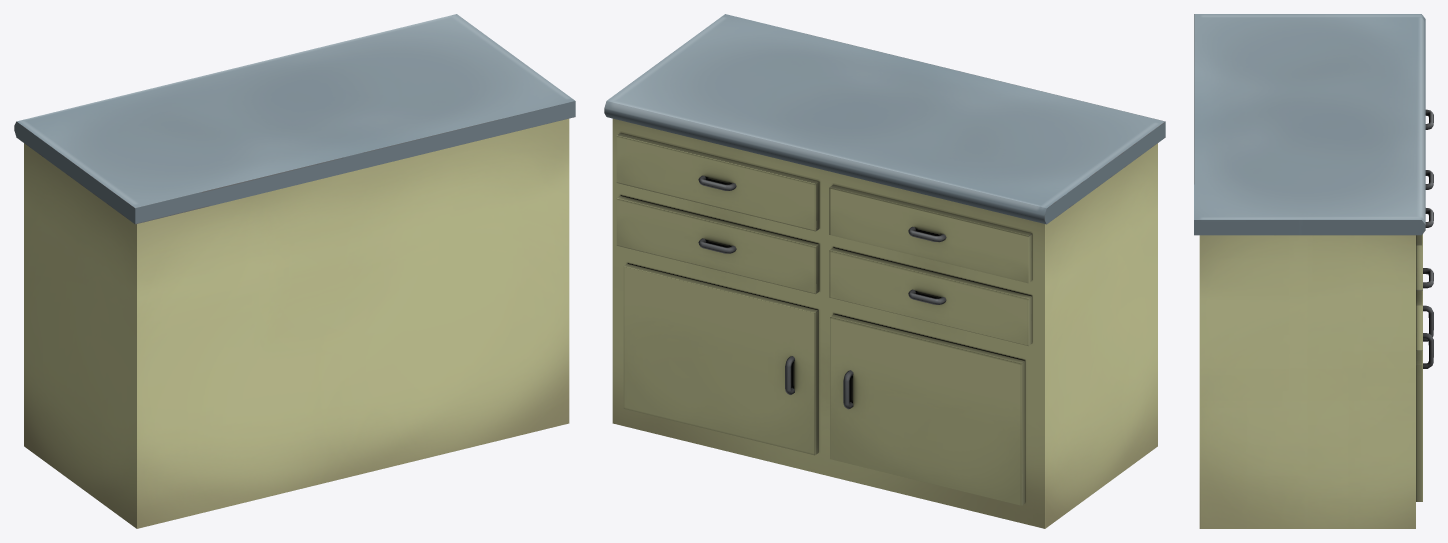
Rendered from drawer1.fbx.
3 views of the same model, side by side, from view 1: azimuth 30°, elevation 25°; view 2: azimuth 150°, elevation 25°; view 3: azimuth 270°, elevation 25° (orthographic). The views are drawn at different scales.
Visible parts, largest first — view 1: counterTop; view 2: counterTop; view 3: counterTop.
Part boxes in pixels (x1,y1,x2,y2): counterTop: (14, 14, 575, 528); counterTop: (604, 14, 1165, 528); counterTop: (1194, 14, 1433, 528).
Size of the model in its own units: 261 by 183 by 128.
1 material, 1 textured.
